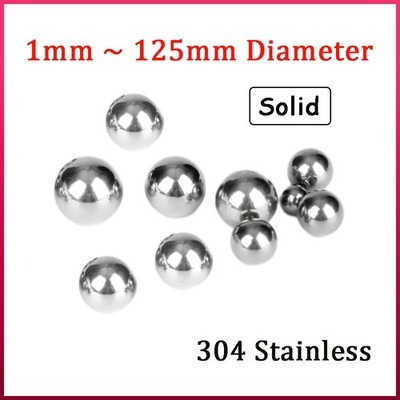ironball: (53, 155, 123, 225), (144, 155, 205, 218), (214, 169, 278, 227), (78, 255, 136, 313), (105, 92, 163, 150), (154, 231, 212, 289), (296, 189, 344, 237), (230, 218, 277, 265), (287, 147, 333, 190), (279, 184, 307, 216)
